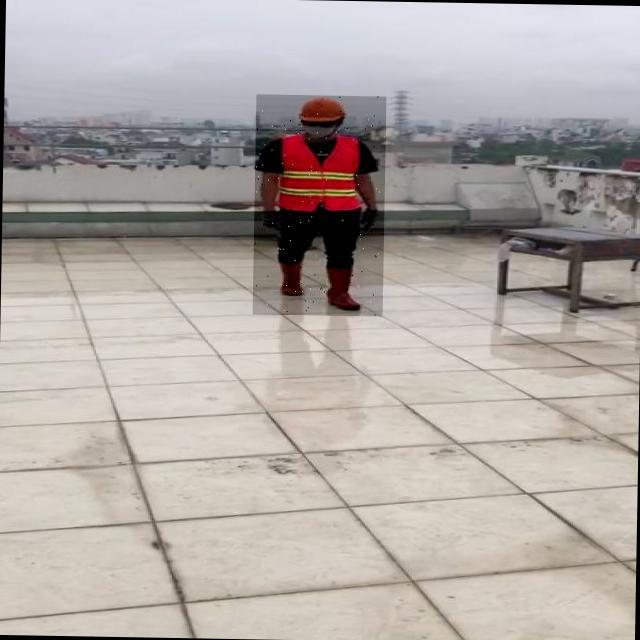Gloves: (262, 207, 287, 230), (362, 207, 374, 232)
Helmet: (297, 96, 345, 122)
Human: (252, 94, 386, 316)
Safety Boot: (326, 266, 361, 309), (276, 258, 305, 297)
Safety Vest: (278, 133, 361, 213)
